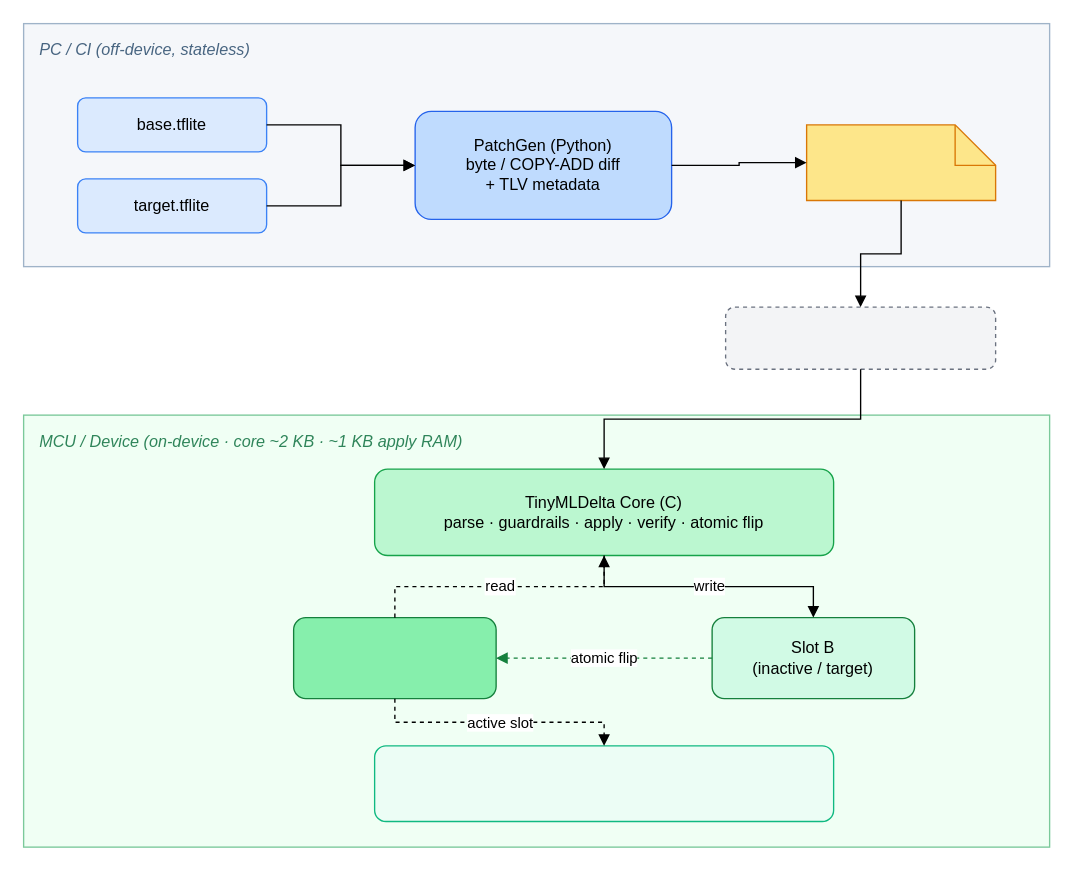
Image size: 1073x871. Some labels were removed from this diagram. Here are the shapes that lost their labels. From the top down, the centre of each, then its label:
At pixel 900 162: "patch.tmd".
At pixel 860 337: "OTA transport — BLE / LoRa / Wi-Fi / ADB".
At pixel 394 657: "Slot A (active model)".
At pixel 603 783: "Inference engine (TFLM / TFLite C / EI) reads weights from flash · arena in RAM".
